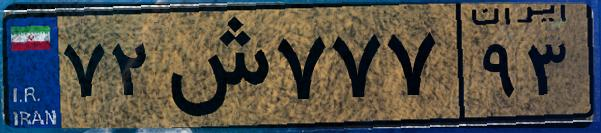2: (110, 28, 158, 98)
3: (525, 38, 570, 115)
7: (270, 28, 330, 110), (385, 28, 445, 110), (330, 28, 385, 110), (57, 26, 110, 100)
9: (475, 38, 525, 113)
ش: (158, 12, 270, 120)
